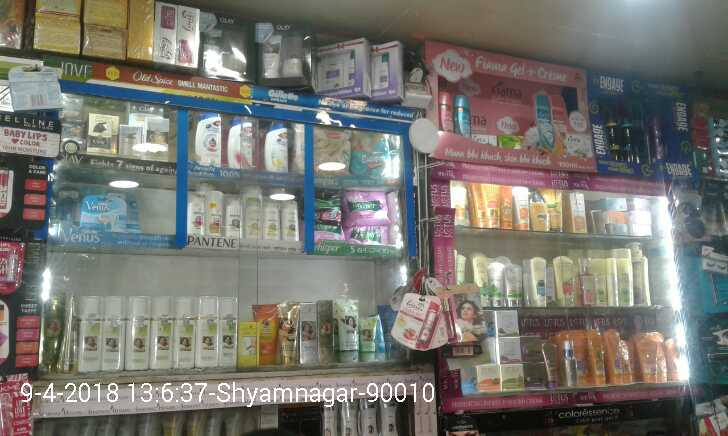venus: (82, 193, 122, 232), (57, 186, 80, 226)
